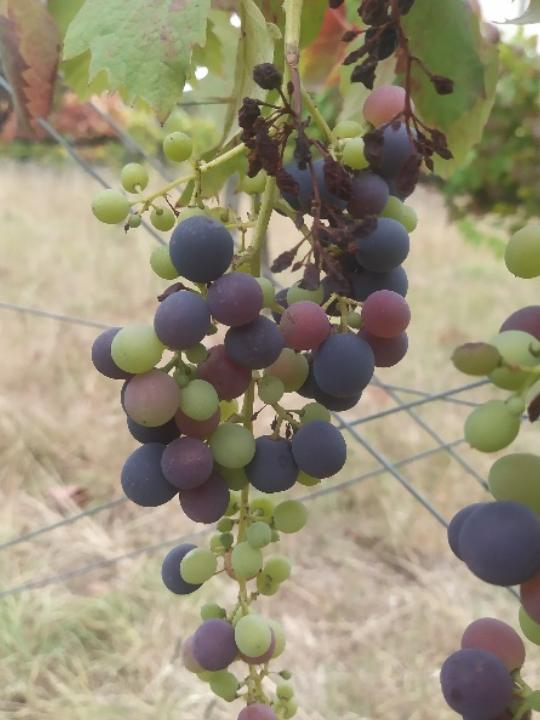grape: (88, 65, 420, 720), (323, 0, 486, 202)
